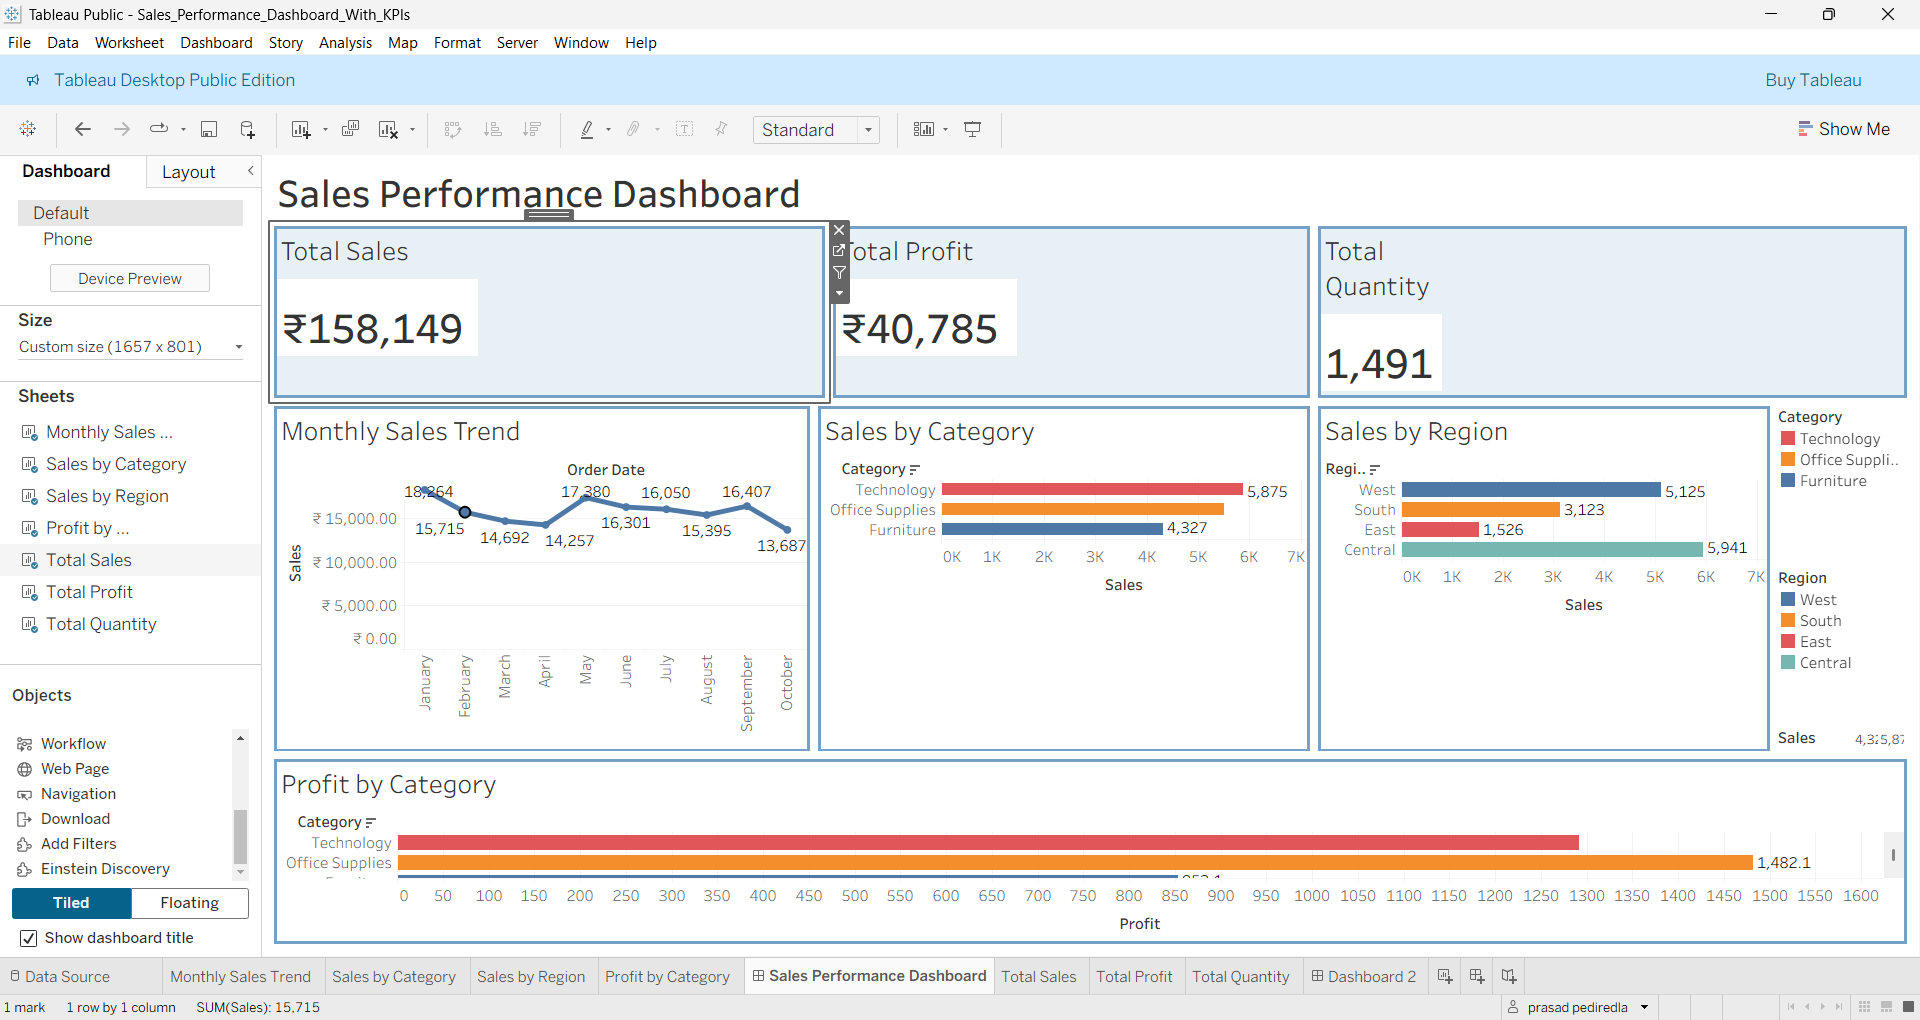

What the dashboard file says about the page in this screenshot:
{"tool":"tableau","page":{"name":"Sales Performance Dashboard","canvas":[1657,801],"ordinal":1},"visuals":[{"type":"title","box":[8,8,1641,59]},{"type":"worksheet","title":"Total Sales","mark":"Automatic","box":[8,67,559,179.8]},{"type":"worksheet","title":"Total Profit","mark":"Automatic","box":[567,67,485,179.8]},{"type":"worksheet","title":"Total Quantity","mark":"Automatic","box":[1052,67,597,179.8]},{"type":"worksheet","title":"Monthly Sales Trend","mark":"Automatic","rows":["Sales"],"cols":["Order Date"],"box":[8,246.8,544,353.7]},{"type":"worksheet","title":"Sales by Category","mark":"Automatic","rows":["Category"],"cols":["Sales"],"box":[552,246.8,500,353.7]},{"type":"worksheet","title":"Sales by Region","mark":"Automatic","rows":["Region"],"cols":["Sales"],"box":[1052,246.8,460,353.7]},{"type":"legend","title":"Sales by Category","param":"[federated.13gqfuk1lhv10w12b2cha1njkrva].[none:Category:nk]","box":[1512,246.8,137,160.8]},{"type":"legend","title":"Sales by Region","param":"[federated.13gqfuk1lhv10w12b2cha1njkrva].[none:Region:nk]","box":[1512,407.6,137,160.8]},{"type":"filter","title":"Sales by Category","param":"[federated.13gqfuk1lhv10w12b2cha1njkrva].[sum:Sales:qk]","box":[1512,568.4,137,32]},{"type":"worksheet","title":"Profit by Category","mark":"Automatic","rows":["Category"],"cols":["Profit"],"box":[8,600.4,1641,192.6]}]}

Visuals, with their boxes on the page's 1657x801 design canvas (x1, y1, x2, y2). These are canvas units, not pixel positions in the 1920x1020 screenshot, which may show the page scaled, cropped or inside an application window:
title: left=8, top=8, right=1649, bottom=67
"Total Sales" worksheet: left=8, top=67, right=567, bottom=247
"Total Profit" worksheet: left=567, top=67, right=1052, bottom=247
"Total Quantity" worksheet: left=1052, top=67, right=1649, bottom=247
"Monthly Sales Trend" worksheet: left=8, top=247, right=552, bottom=600
"Sales by Category" worksheet: left=552, top=247, right=1052, bottom=600
"Sales by Region" worksheet: left=1052, top=247, right=1512, bottom=600
"Sales by Category" legend: left=1512, top=247, right=1649, bottom=408
"Sales by Region" legend: left=1512, top=408, right=1649, bottom=568
"Sales by Category" filter: left=1512, top=568, right=1649, bottom=600
"Profit by Category" worksheet: left=8, top=600, right=1649, bottom=793
